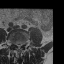CCS_stenosis: (17, 41, 20, 50)
LFS_severe_stenosis: (22, 41, 24, 47)
LLS_stenosis: (20, 41, 22, 48)
RFS_severe_stenosis: (13, 41, 15, 46)
RLS_stenosis: (15, 41, 17, 48)
